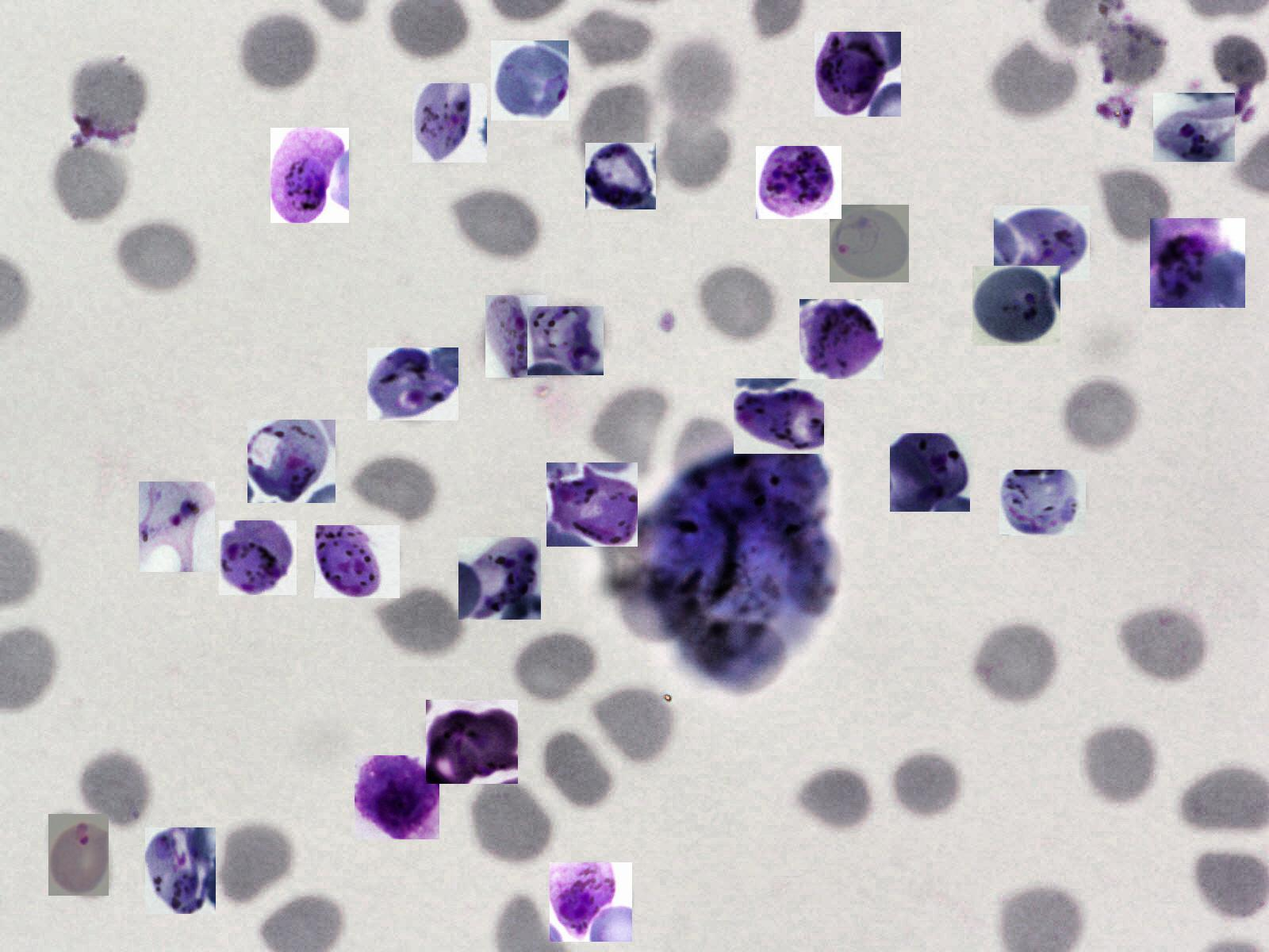Infected: (1150, 218, 1245, 308), (426, 700, 518, 784), (546, 463, 638, 547), (270, 128, 349, 223), (815, 32, 901, 117), (247, 420, 335, 503), (994, 205, 1090, 281), (355, 755, 439, 839), (972, 266, 1060, 346), (139, 482, 215, 572), (734, 378, 824, 454), (458, 538, 541, 620), (799, 299, 884, 379), (367, 347, 458, 420), (550, 862, 632, 942), (890, 433, 970, 512), (491, 40, 569, 121), (314, 525, 400, 598), (757, 146, 842, 219), (145, 827, 216, 914), (830, 205, 909, 282), (412, 83, 487, 163), (219, 520, 297, 595), (999, 470, 1086, 536), (1153, 93, 1235, 162), (527, 306, 604, 375), (485, 295, 547, 378), (48, 814, 109, 896), (585, 143, 656, 209)
Uninfected: (466, 774, 554, 867), (588, 683, 680, 769), (213, 818, 299, 910), (971, 617, 1059, 705), (1075, 717, 1160, 807), (447, 184, 543, 263), (688, 256, 776, 340), (510, 625, 602, 704), (71, 53, 152, 141), (373, 585, 465, 662), (591, 389, 673, 475), (113, 218, 201, 297), (987, 39, 1076, 117), (74, 748, 154, 831), (48, 147, 127, 231), (1124, 606, 1210, 681), (346, 453, 435, 525), (539, 728, 615, 811), (657, 106, 734, 186), (1060, 378, 1136, 459), (577, 83, 658, 156), (241, 16, 320, 90), (664, 40, 738, 118), (890, 744, 970, 816), (1096, 168, 1170, 244), (794, 766, 872, 837), (1190, 851, 1269, 918), (569, 10, 653, 70), (1097, 25, 1164, 87), (1214, 33, 1266, 90)
